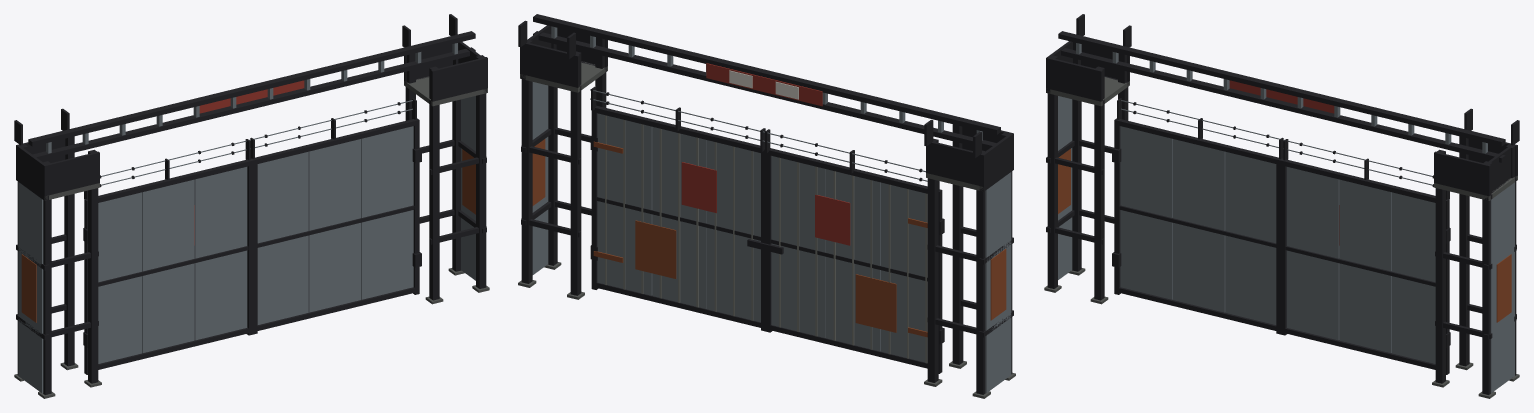
The model's file is camp_gate_metal.glb.
The picture shows the model from 3 angles, left to right: view 1: azimuth 30°, elevation 25°; view 2: azimuth 150°, elevation 25°; view 3: azimuth 330°, elevation 25°; orthographic projection. The views are drawn at different scales.
Parts seen in each view (by area): view 1: camp_gate_metal, gate_leaf_r, gate_leaf_l; view 2: camp_gate_metal, gate_leaf_r, gate_leaf_l; view 3: camp_gate_metal, gate_leaf_l, gate_leaf_r.
Boxes of the visible parts, left/top/right/bottom form: camp_gate_metal: left=14, top=14, right=489, bottom=398; gate_leaf_r: left=249, top=98, right=421, bottom=334; gate_leaf_l: left=83, top=139, right=253, bottom=374; camp_gate_metal: left=518, top=14, right=1015, bottom=398; gate_leaf_r: left=590, top=86, right=765, bottom=331; gate_leaf_l: left=764, top=129, right=944, bottom=373; camp_gate_metal: left=1044, top=14, right=1519, bottom=398; gate_leaf_l: left=1112, top=98, right=1284, bottom=334; gate_leaf_r: left=1280, top=139, right=1450, bottom=374.
Size of what is drawn, in the model's own units: 8.04 by 4.35 by 1.07.
Materials: 2 (2 with a texture image).
